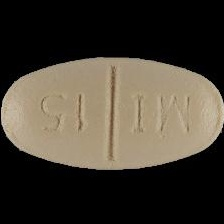53808-0482: (0, 0, 224, 224)
